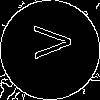V: (25, 25, 71, 59)
